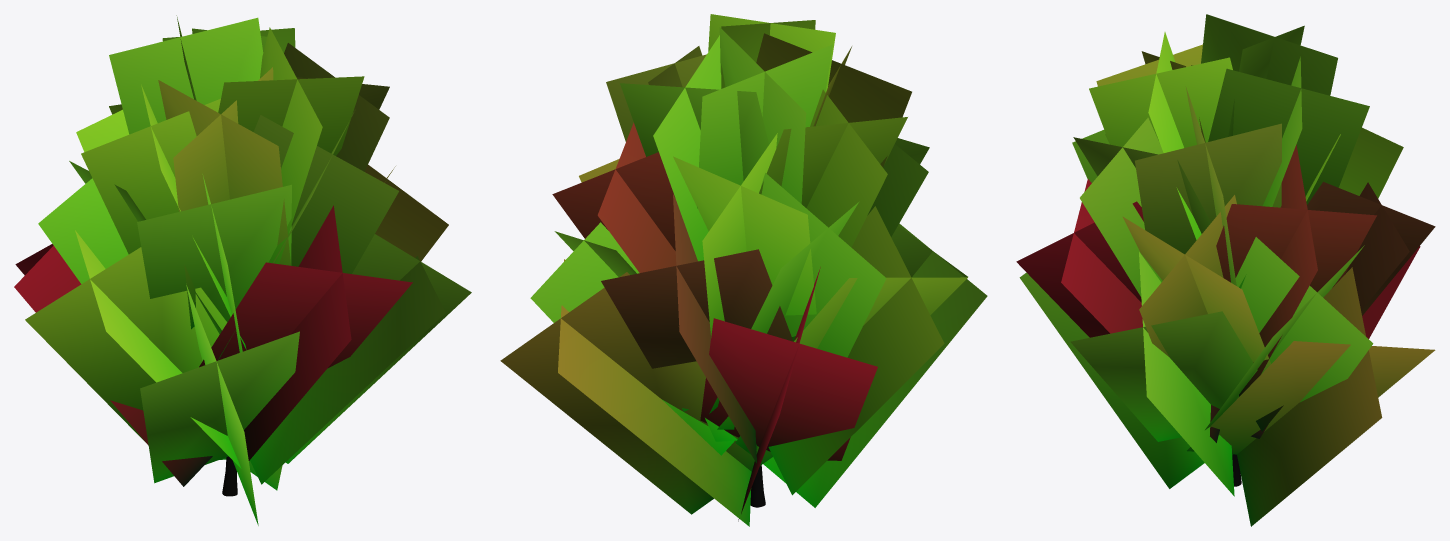
Rendered from Bush_9_1.fbx.
3 renders of one model, left to right at view 1: azimuth 30°, elevation 25°; view 2: azimuth 150°, elevation 25°; view 3: azimuth 270°, elevation 25°, orthographic. The views are drawn at different scales.
Visible parts, largest first — view 1: _11; view 2: _11; view 3: _11.
Boxes of the visible parts, <box> form: _11: <box>14,15,471,525</box>; _11: <box>500,14,987,526</box>; _11: <box>1016,14,1435,526</box>.
Bounding box in the file's own units: 529 × 623 × 508.
